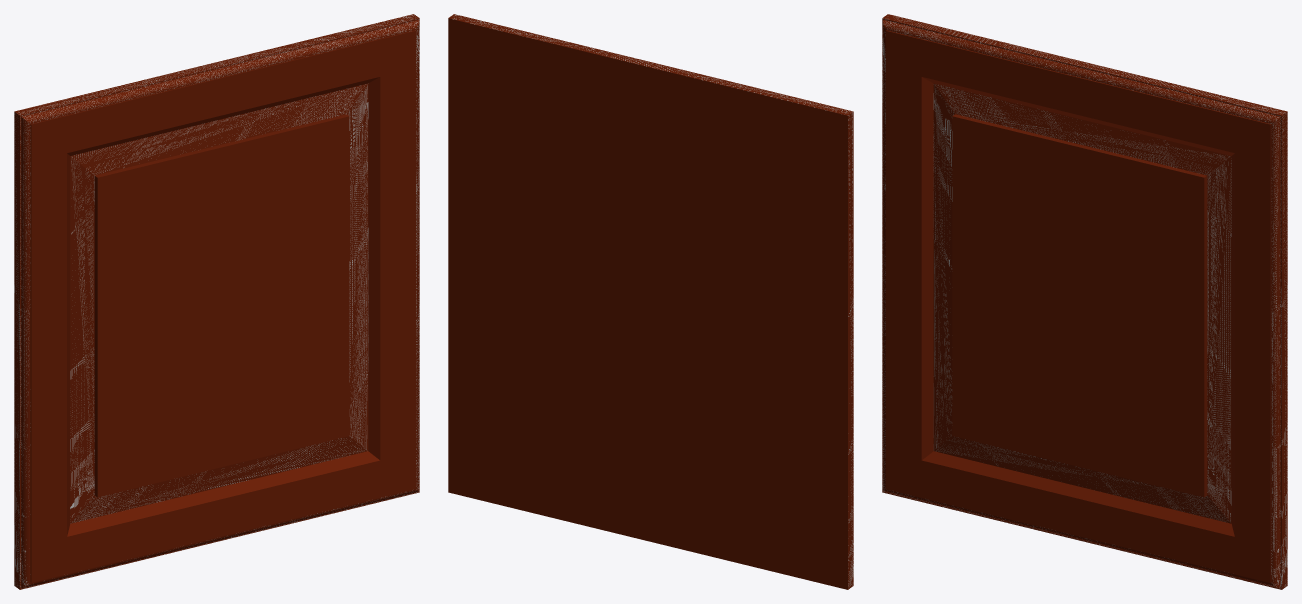
Rendered from original-25.obj.
3 views of the same model, side by side, from view 1: azimuth 30°, elevation 25°; view 2: azimuth 150°, elevation 25°; view 3: azimuth 330°, elevation 25° (orthographic).
Parts seen in each view (by area): view 1: mesh36/mesh36-geometry#mesh36-geometry; view 2: mesh36/mesh36-geometry#mesh36-geometry; view 3: mesh36/mesh36-geometry#mesh36-geometry.
Boxes of the visible parts, <box> form: mesh36/mesh36-geometry#mesh36-geometry: <box>14,14,419,589</box>; mesh36/mesh36-geometry#mesh36-geometry: <box>448,14,853,589</box>; mesh36/mesh36-geometry#mesh36-geometry: <box>882,14,1287,589</box>.
Bounding box in the file's own units: 0.3922 × 0.4446 × 0.0162.
